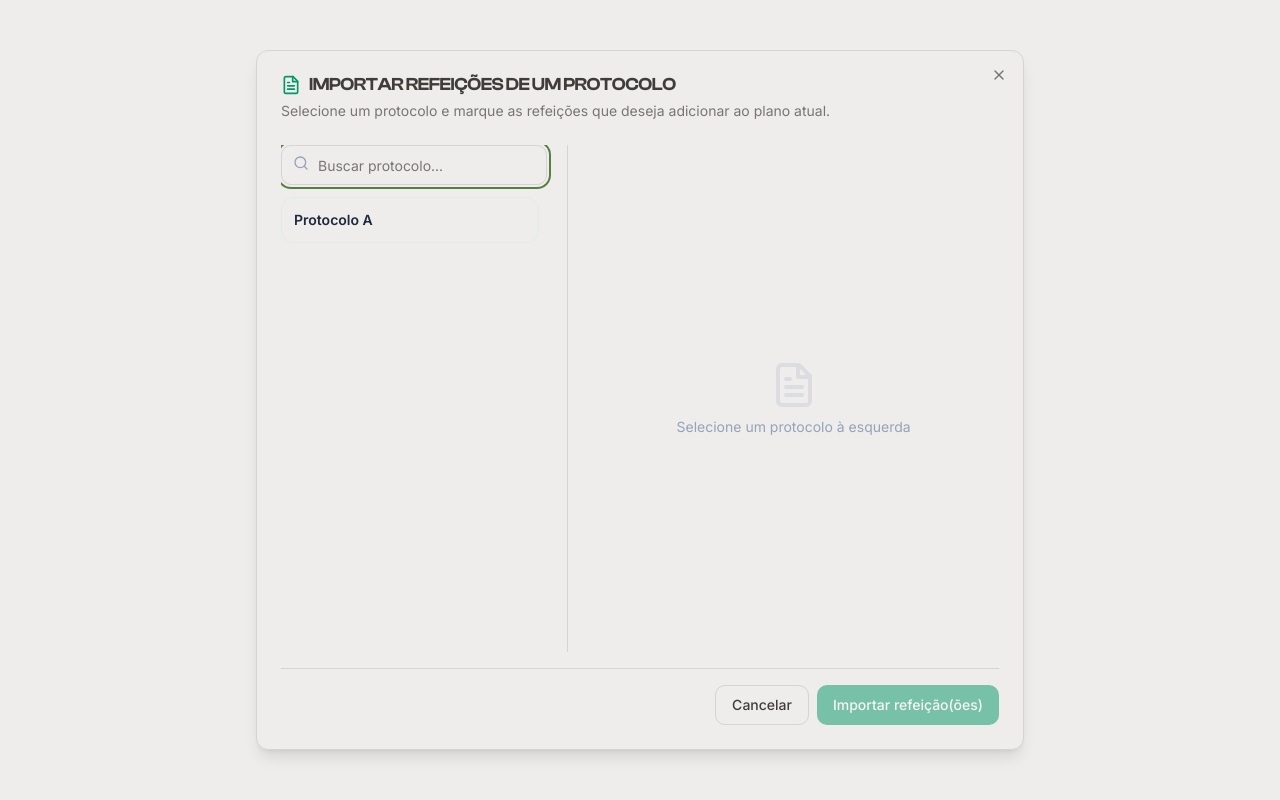
Scenario: ImportMealFromProtocolDialog › blocks a meal containing a removed food and shows its ID
Step 1. Click the button "Protocolo A" → click(410, 220), box [281,197,539,243]
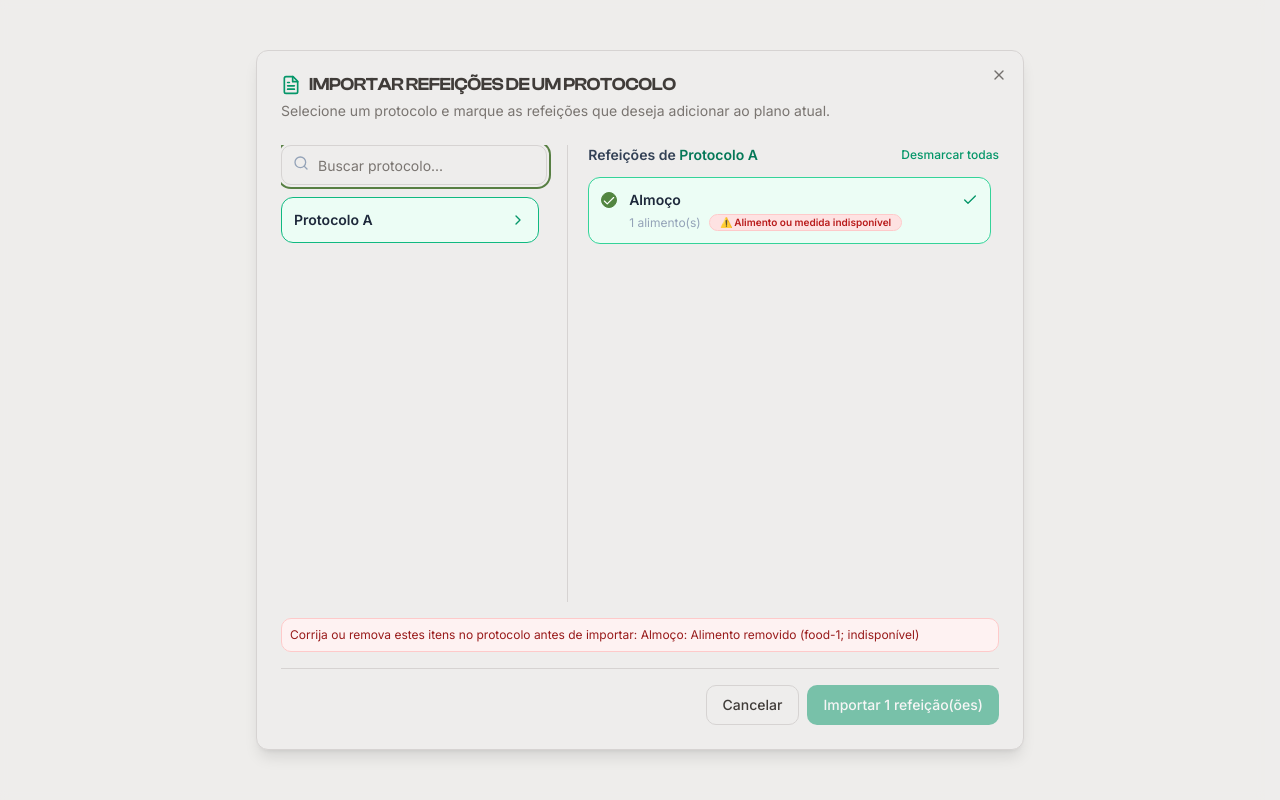
expect the button "Importar 1 refeição(ões)" is disabled: met, box [807,685,999,725]
expect the message shows "food-1": met, box [641,627,919,642]
